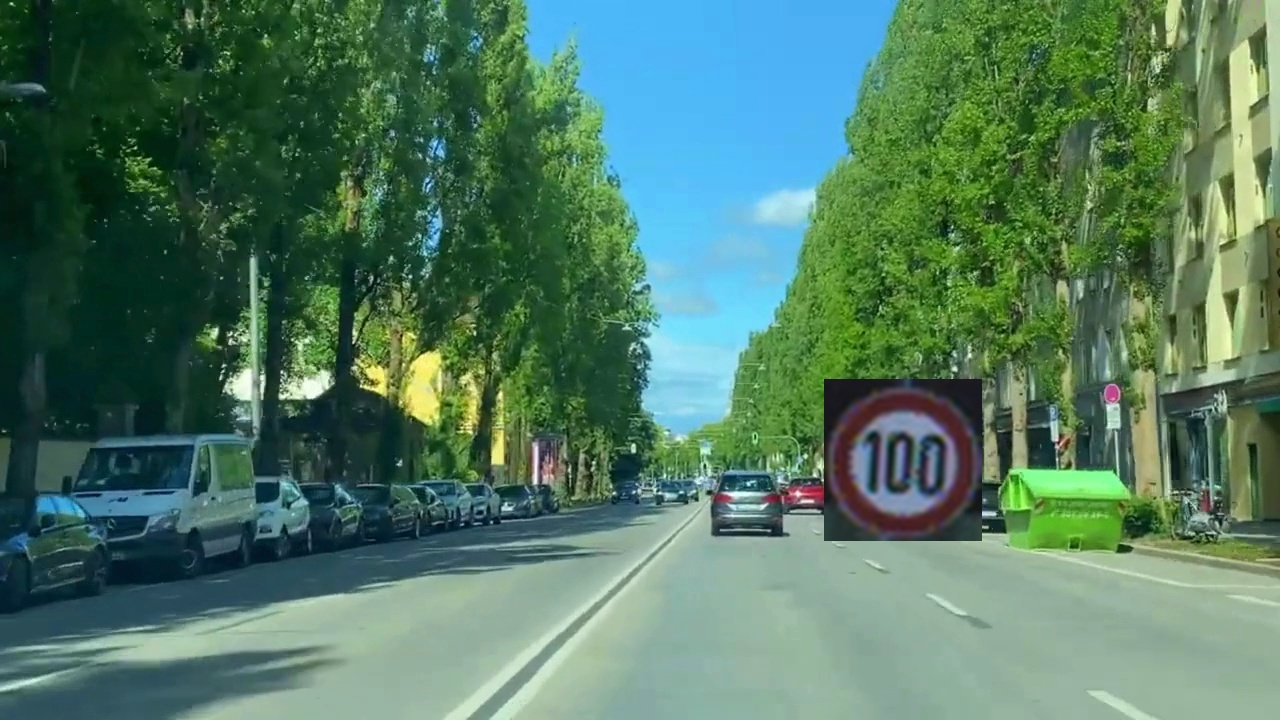Speed 100: (824, 379, 982, 541)
